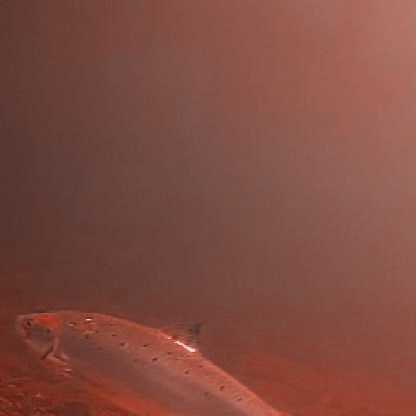salmon: (9, 302, 286, 414)
